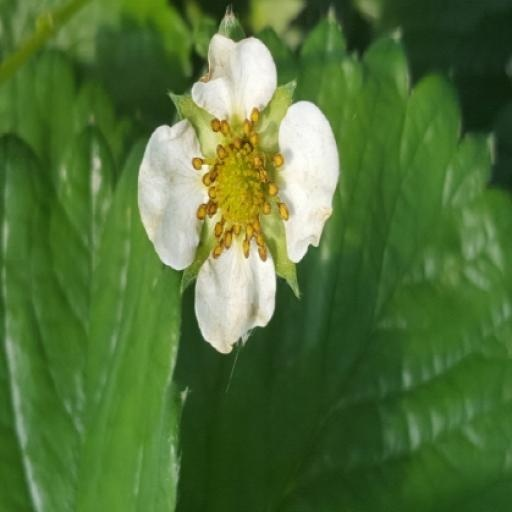Blossom Blight: (186, 247, 292, 406)
